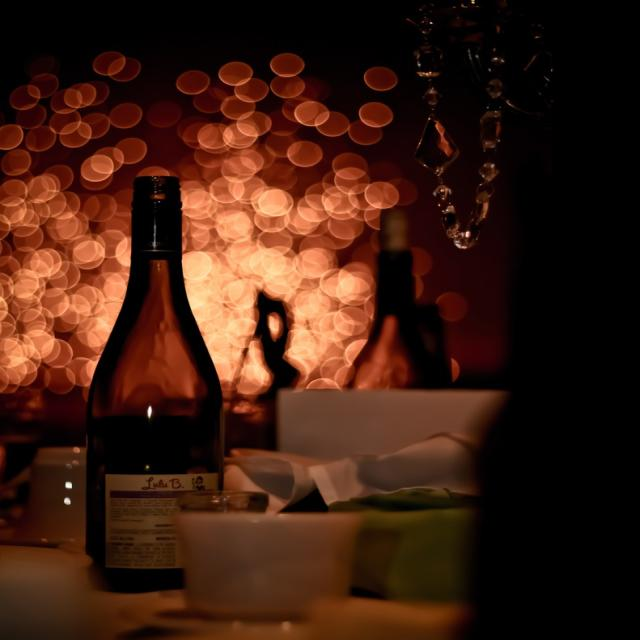Bottle: (81, 143, 242, 588), (352, 190, 455, 402)
Cup: (170, 489, 364, 626), (18, 433, 105, 549)
